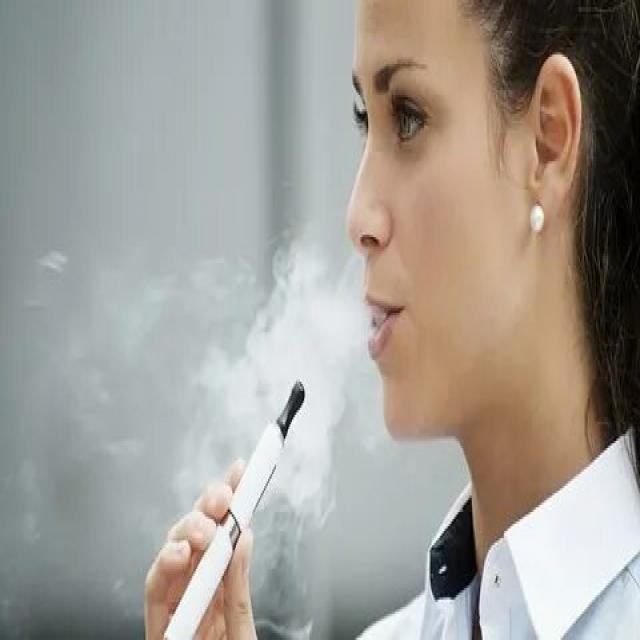smoke: (162, 374, 309, 640)
